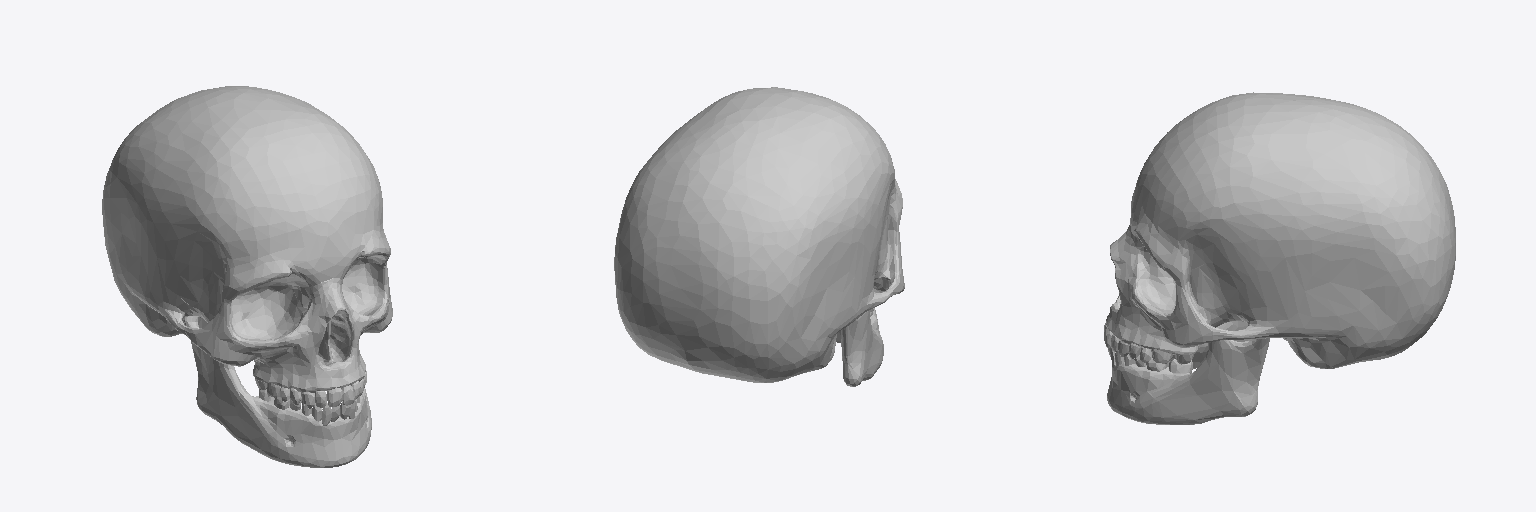
File: Skull_HQ.obj
The picture shows the model from 3 angles: view 1: azimuth 30°, elevation 25°; view 2: azimuth 150°, elevation 25°; view 3: azimuth 270°, elevation 25°; orthographic projection.
Visible parts, largest first — view 1: 12140_Skull_v3_L2; view 2: 12140_Skull_v3_L2; view 3: 12140_Skull_v3_L2.
Boxes of the visible parts, <box> form: 12140_Skull_v3_L2: <box>102,86,392,467</box>; 12140_Skull_v3_L2: <box>614,87,904,386</box>; 12140_Skull_v3_L2: <box>1104,92,1455,424</box>.
Bounding box in the file's own units: 2.48 × 3.44 × 3.68.